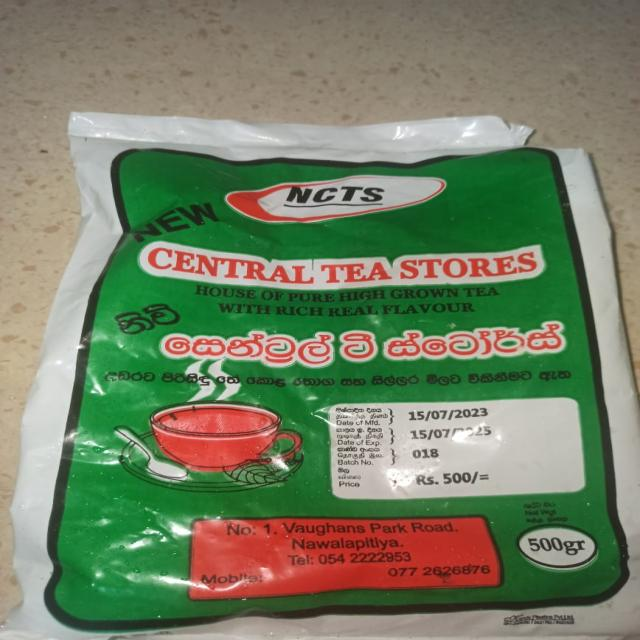Central Tea: (59, 101, 640, 640)
